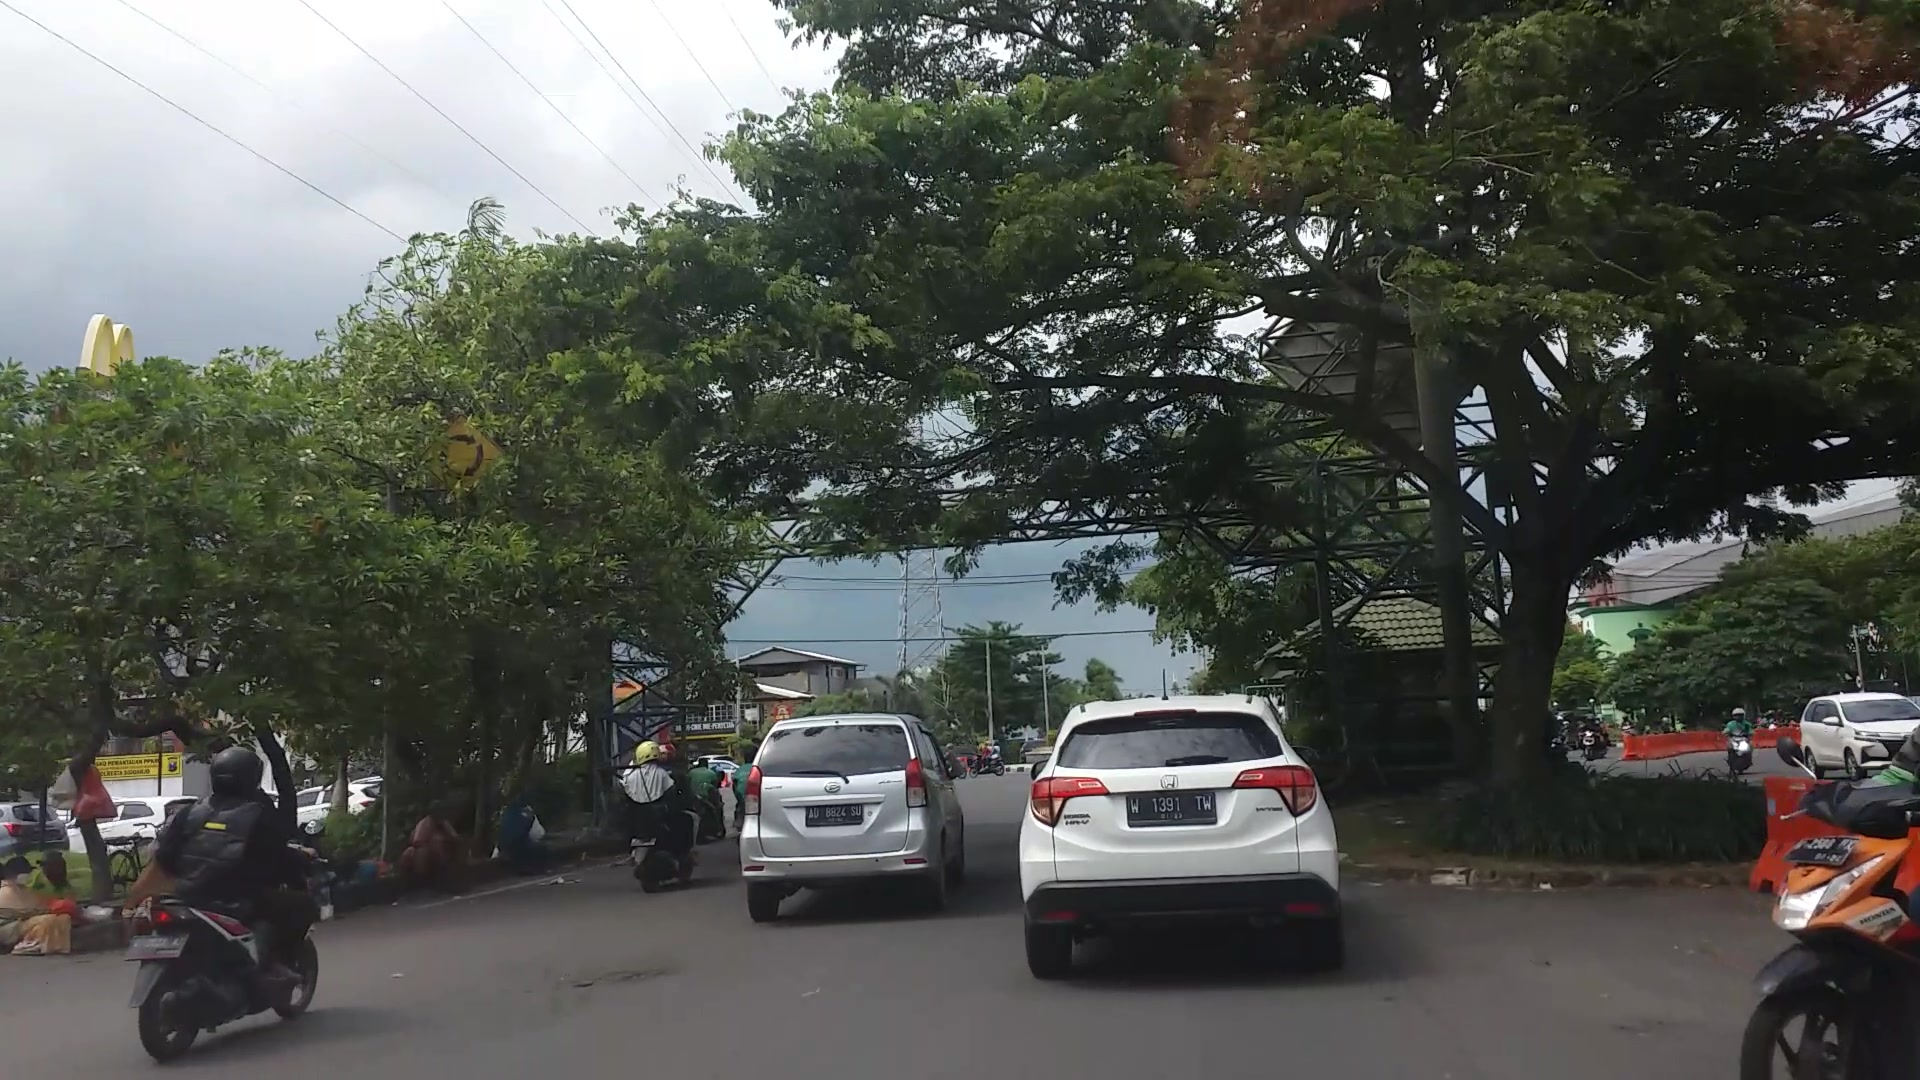plate_positive: (1127, 793, 1217, 825), (806, 804, 864, 827)
